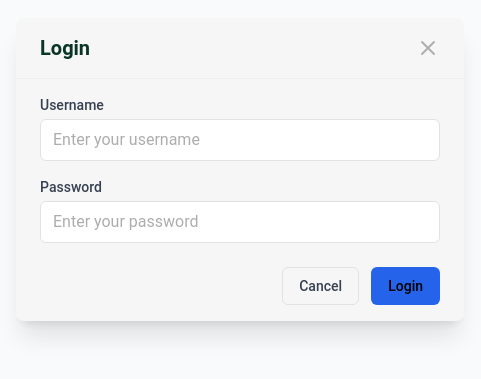
it: LoginDialog › Form validation › clears errors when user starts typing
Step 1. Click the button "Login" → [406, 286], box top-left (371, 266), bottom-right (440, 304)
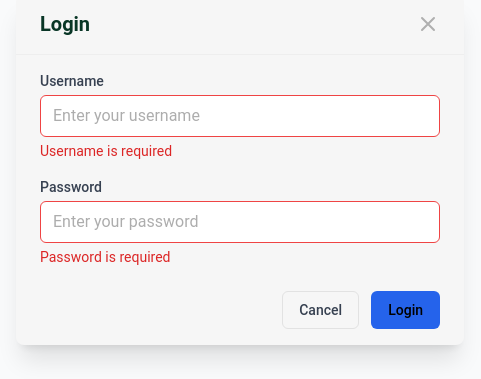
Check: the text "Username is required" is shown, box top-left (40, 142), bottom-right (172, 158)
Step 2. Type "testuser" into the field labelled "Username" → [240, 116], box top-left (40, 94), bottom-right (440, 136)
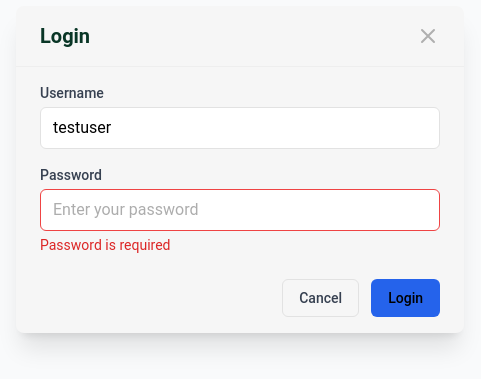
Check: the text "Username is required" is gone
